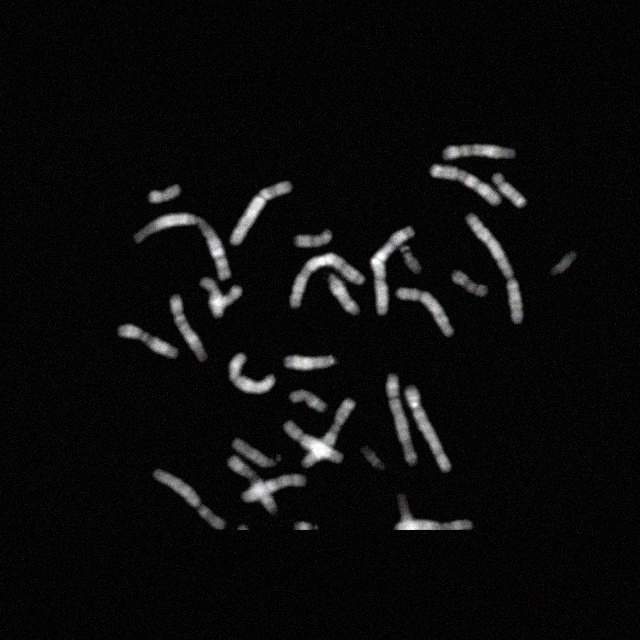chromosome: (133, 213, 231, 280), (465, 212, 523, 324), (153, 468, 227, 530), (405, 383, 451, 472), (290, 253, 364, 307), (230, 181, 292, 245), (371, 225, 415, 313), (302, 399, 354, 467), (384, 373, 418, 467), (430, 165, 502, 207), (395, 288, 453, 336), (228, 456, 276, 512), (170, 293, 207, 362), (283, 421, 343, 463), (228, 351, 276, 394), (119, 324, 179, 358), (241, 474, 311, 502), (231, 437, 281, 468), (327, 274, 359, 316), (492, 172, 528, 208), (442, 144, 516, 160), (452, 270, 488, 296), (200, 277, 222, 317), (290, 388, 326, 412), (284, 354, 334, 371), (393, 520, 473, 530), (208, 286, 244, 308), (360, 444, 386, 471), (401, 244, 424, 274), (296, 229, 332, 247), (550, 252, 576, 276), (398, 493, 414, 531), (150, 185, 180, 202), (293, 520, 319, 530)
